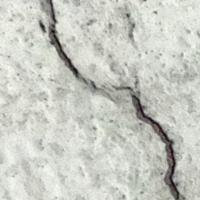crack: (41, 4, 184, 198)
